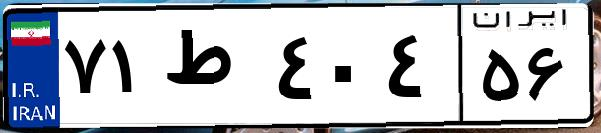0: (330, 28, 385, 110)
1: (110, 28, 158, 98)
4: (270, 28, 330, 110), (385, 28, 445, 110)
5: (475, 38, 525, 113)
6: (525, 38, 570, 115)
7: (57, 26, 110, 100)
ط: (158, 20, 270, 120)
